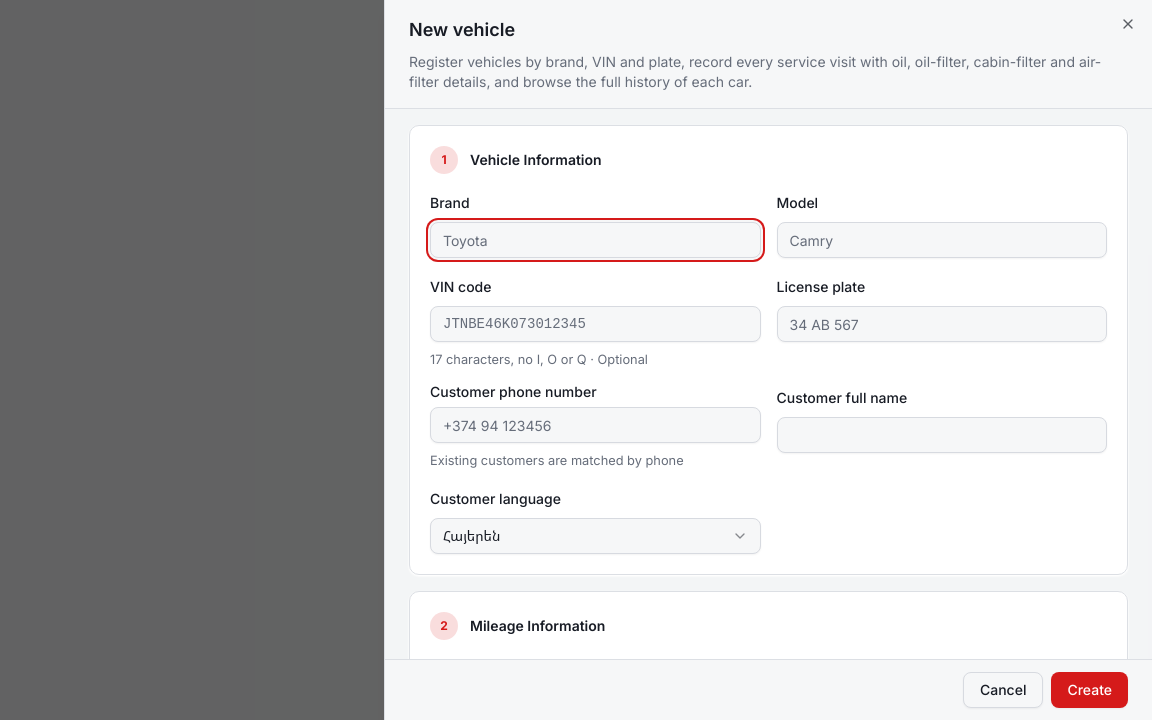
Test: VehicleFormSheet › rejects an invalid VIN
The image size is (1152, 720).
In the field labelled "VIN code": (595, 324) [430,306,760,342], type "ABC"
(page scrolled)
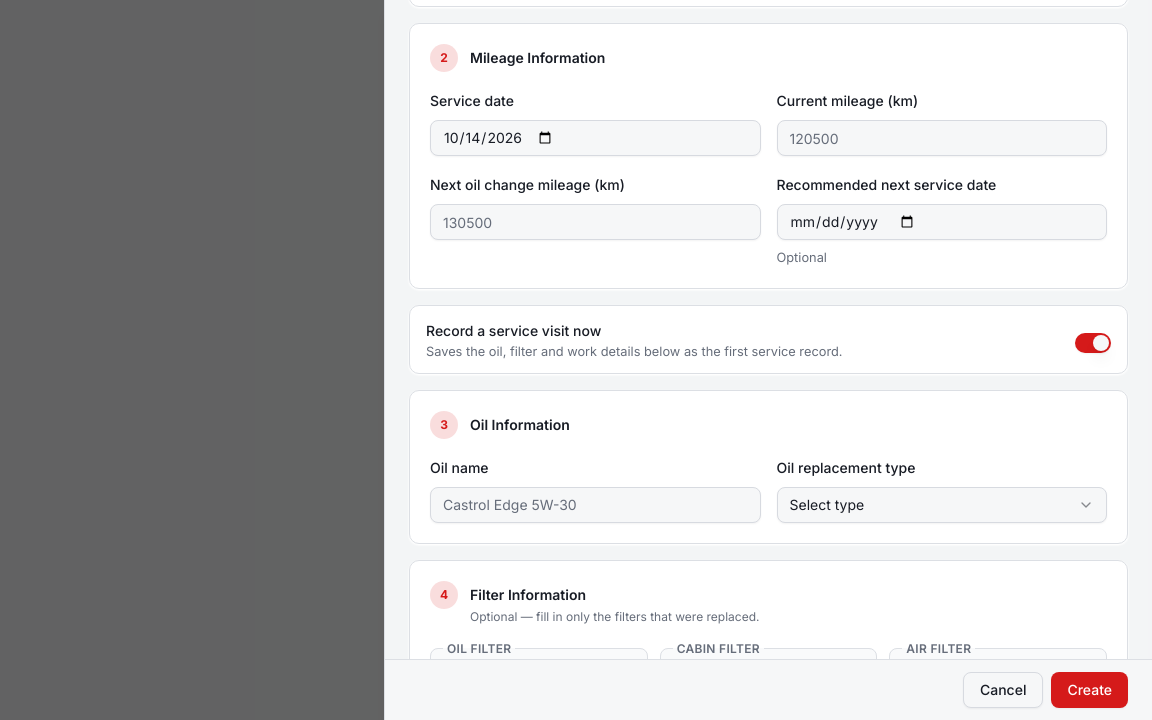
Submit the form
(page scrolled)
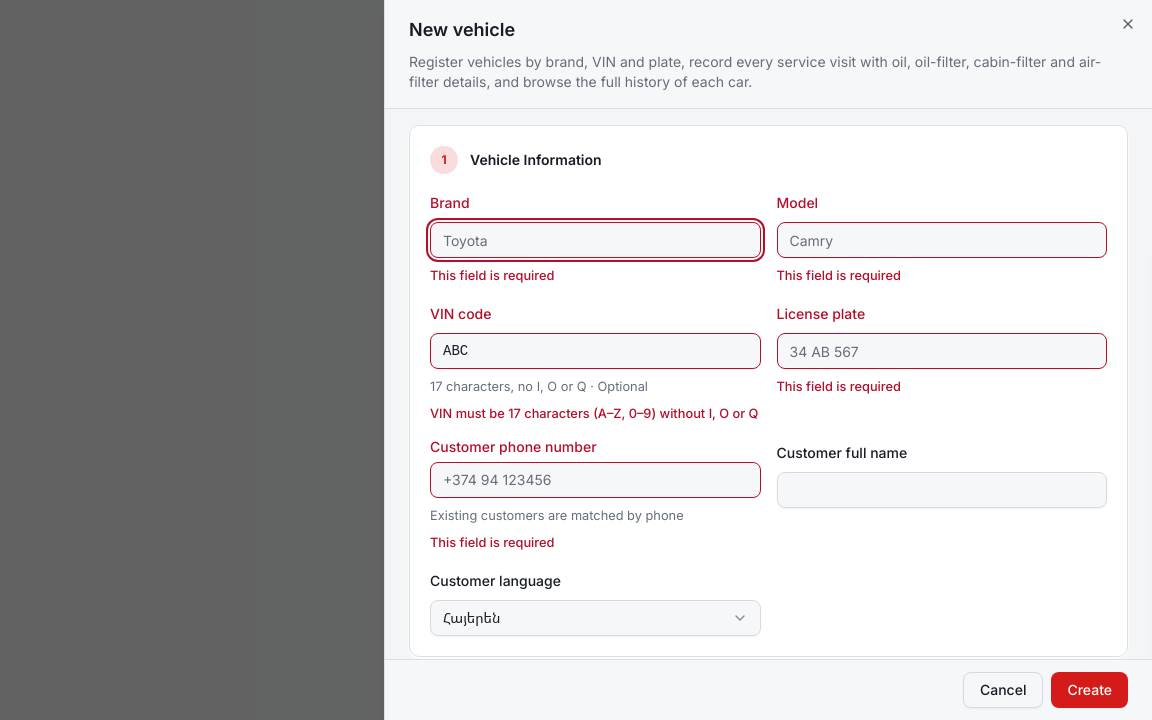
expect the text "VIN must be 17 characters (A–Z, 0–9) without I, O or Q" is shown: met, box [430,404,760,424]
